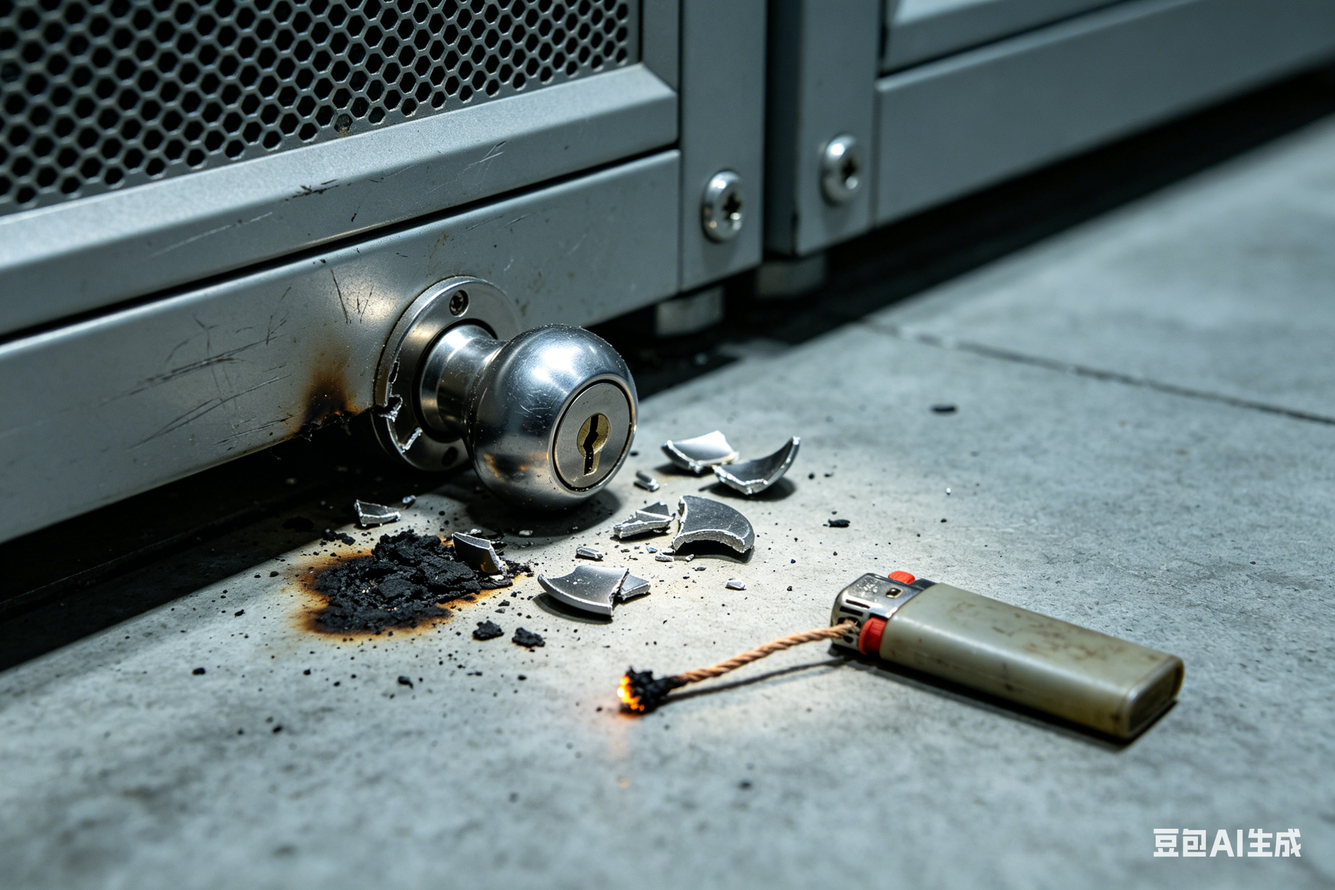BadLock: (361, 294, 501, 490)
